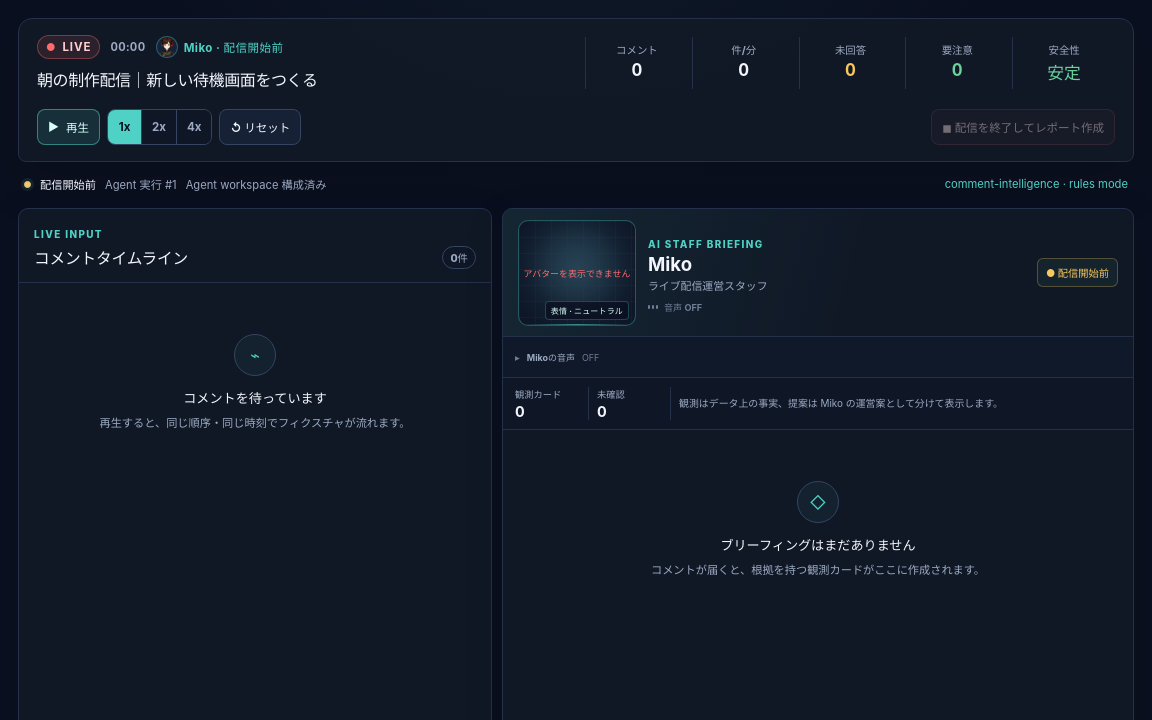
stream operations fixture playback › shows a server turn-error message in the dashboard
This screenshot has width=1152, height=720.
Click the button "▶ 再生" at [68, 127], box [37,109,100,145]
Wait 1200 ms
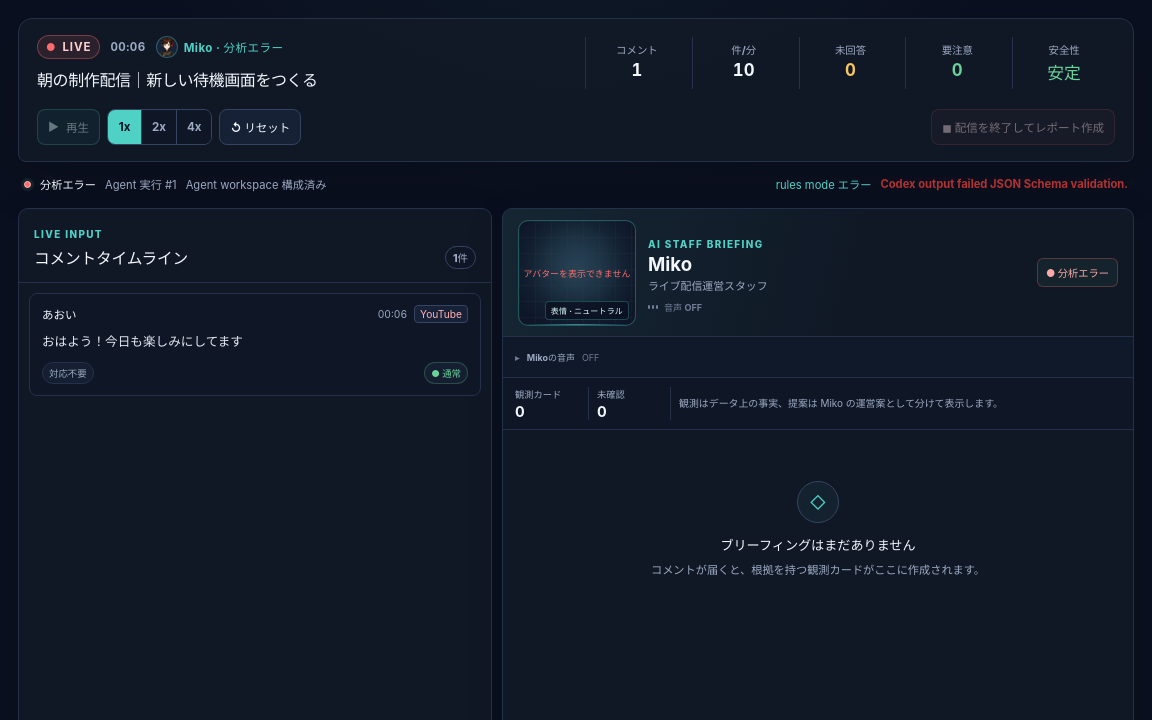
Expected: the message "Codex output failed JSON Schema validation." is shown, [880,177,1128,191]
